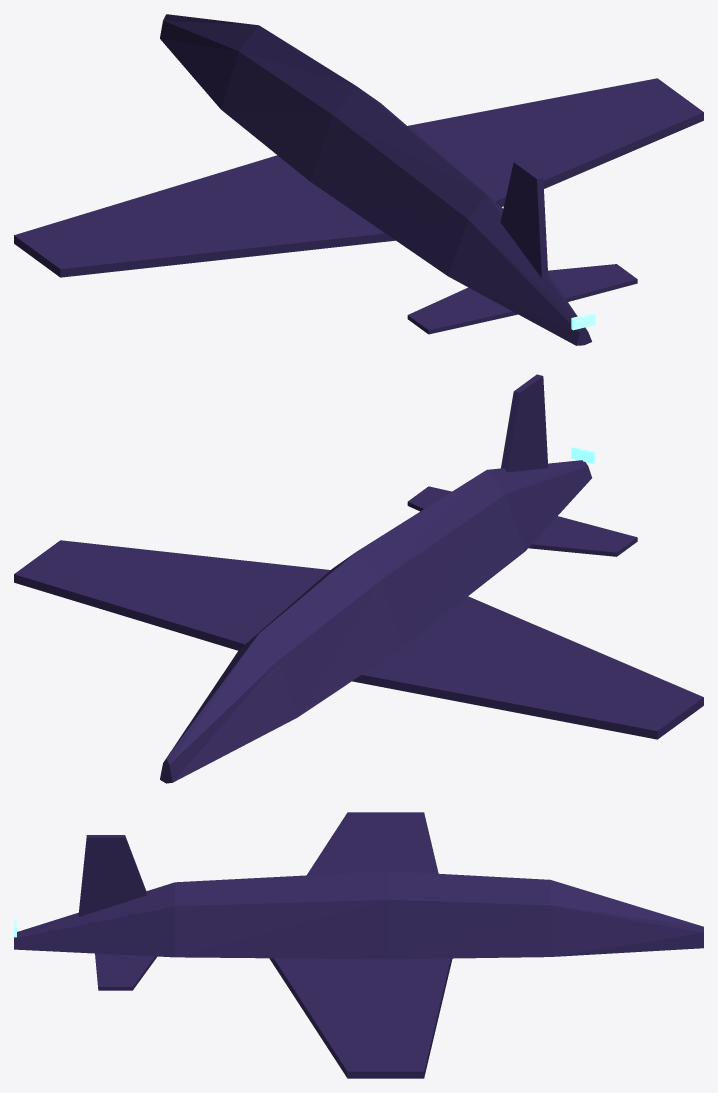
File: 03_pulse_commuter.glb
3 renders of one model, top to bottom at view 1: azimuth 30°, elevation 25°; view 2: azimuth 150°, elevation 25°; view 3: azimuth 270°, elevation 25°, orthographic. The views are drawn at different scales.
Visible parts, largest first — view 1: fuselage_0, wing_1, wing_2, fin_5, tailplane_3, tailplane_4; view 2: fuselage_0, wing_1, wing_2, fin_5, tailplane_3; view 3: fuselage_0, wing_2, wing_1, fin_5, tailplane_4.
Boxes of the visible parts, box(x1,y1,x2,y2) form: fuselage_0: box(160, 14, 591, 345); wing_1: box(14, 155, 395, 277); wing_2: box(408, 78, 703, 207); fin_5: box(500, 160, 548, 278); tailplane_3: box(407, 287, 517, 334); tailplane_4: box(548, 264, 637, 301); fuselage_0: box(160, 460, 591, 783); wing_1: box(352, 596, 703, 739); wing_2: box(14, 540, 330, 650); fin_5: box(501, 374, 548, 472); tailplane_3: box(528, 516, 637, 556); fuselage_0: box(14, 871, 703, 959); wing_2: box(269, 958, 452, 1078); wing_1: box(307, 812, 438, 875); fin_5: box(78, 835, 146, 916); tailplane_4: box(95, 953, 156, 990).
Size of the model in its own units: 16 by 3.24 by 18.
